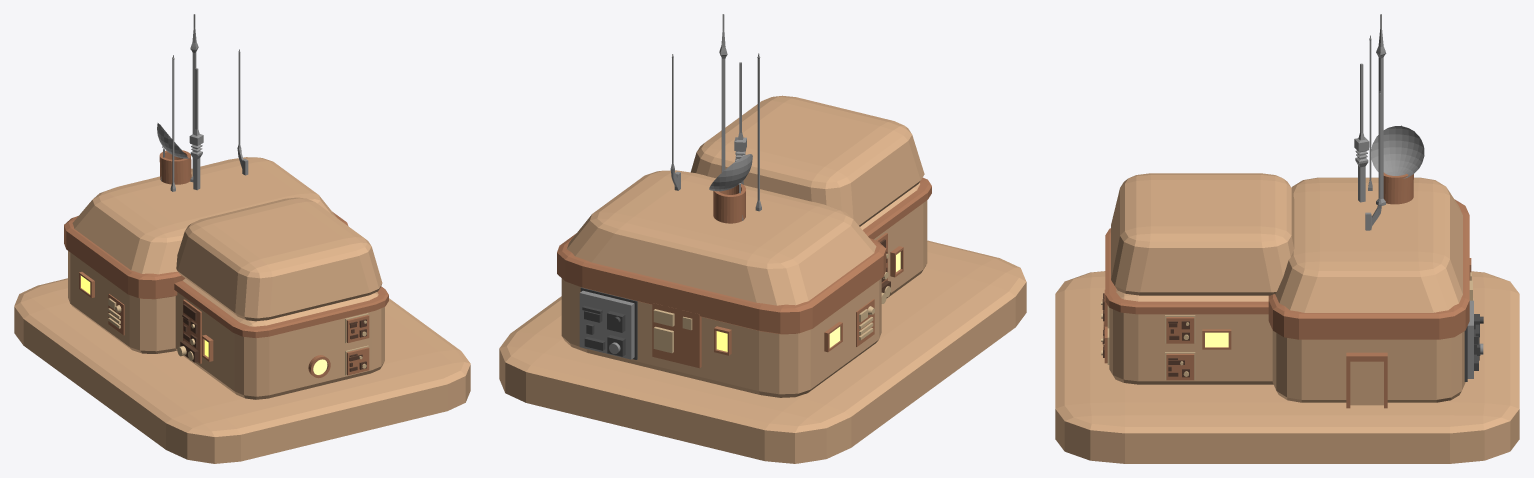
Rendered from nomad_building_26.fbx.
3 renders of one model, left to right at view 1: azimuth 30°, elevation 25°; view 2: azimuth 150°, elevation 25°; view 3: azimuth 270°, elevation 25°, orthographic. The views are drawn at different scales.
Visible parts, largest first — view 1: B26_M_Foundation_square, B26_M_R01_square_roof_defualt, B26_M_R00_rect_base_roof_default, B26_M_Blk01_base, B26_M_Blk00_rect_base, B26_M_B00_Band_square_diameter_thich, B26_M_B01_Band_square_diameter_default, B26_M_Stack0_TowerBody_StackWide, B26_M_Mast3_AntennaMast_Bulky, B26_M_Panel4_MeterBox_Face002, B26_M_Mast2_AntennaMast_Tall, B26_M_Mast0_AntennaMast_Offset; view 2: B26_M_Foundation_square, B26_M_R00_rect_base_roof_default, B26_M_R01_square_roof_defualt, B26_M_Blk00_rect_base, B26_M_B00_Band_square_diameter_thich, B26_M_Blk01_base, B26_M_Panel1_MeterBox_Face001, B26_M_Panel5_PanelBox_Body, B26_M_B01_Band_square_diameter_default, B26_M_Stack0_TowerBody_StackWide, B26_M_Dish0_AntennaDish_Reflector, B26_M_Mast2_AntennaMast_Tall; view 3: B26_M_Foundation_square, B26_M_R00_rect_base_roof_default, B26_M_R01_square_roof_defualt, B26_M_Blk01_base, B26_M_Blk00_rect_base, B26_M_B00_Band_square_diameter_thich, B26_M_B01_Band_square_diameter_default, B26_M_Dish0_AntennaDish_Reflector, B26_M_Door_Door_Leaf, B26_M_Mast2_AntennaMast_Tall, B26_M_Mast3_AntennaMast_Bulky, B26_M_Stack0_TowerBody_StackWide (+5 smaller).
Boxes of the visible parts, x1,y1,x2,y2 form: B26_M_Foundation_square: (14,278,470,463); B26_M_R01_square_roof_defualt: (176,197,382,321); B26_M_R00_rect_base_roof_default: (72,157,336,274); B26_M_Blk01_base: (175,278,384,399); B26_M_Blk00_rect_base: (68,251,176,353); B26_M_B00_Band_square_diameter_thich: (64,211,348,299); B26_M_B01_Band_square_diameter_default: (174,281,388,338); B26_M_Stack0_TowerBody_StackWide: (159,150,191,184); B26_M_Mast3_AntennaMast_Bulky: (189,68,203,190); B26_M_Panel4_MeterBox_Face002: (183,299,201,363); B26_M_Mast2_AntennaMast_Tall: (190,14,198,182); B26_M_Mast0_AntennaMast_Offset: (237,49,248,175); B26_M_Foundation_square: (499,240,1026,463); B26_M_R00_rect_base_roof_default: (567,170,876,305); B26_M_R01_square_roof_defualt: (691,95,924,226); B26_M_Blk00_rect_base: (561,278,881,397); B26_M_B00_Band_square_diameter_thich: (557,233,886,334); B26_M_Blk01_base: (860,183,927,298); B26_M_Panel1_MeterBox_Face001: (579,290,634,359); B26_M_Panel5_PanelBox_Body: (652,303,701,368); B26_M_B01_Band_square_diameter_default: (863,177,931,239); B26_M_Stack0_TowerBody_StackWide: (713,183,745,223); B26_M_Dish0_AntennaDish_Reflector: (709,154,752,191); B26_M_Mast2_AntennaMast_Tall: (719,14,727,172); B26_M_Foundation_square: (1055,271,1519,463); B26_M_R00_rect_base_roof_default: (1275,177,1462,312); B26_M_R01_square_roof_defualt: (1111,173,1294,295); B26_M_Blk01_base: (1109,289,1273,384); B26_M_Blk00_rect_base: (1272,331,1465,402); B26_M_B00_Band_square_diameter_thich: (1268,199,1469,339); B26_M_B01_Band_square_diameter_default: (1105,228,1268,314); B26_M_Dish0_AntennaDish_Reflector: (1371,125,1424,178); B26_M_Door_Door_Leaf: (1350,361,1383,405); B26_M_Mast2_AntennaMast_Tall: (1376,14,1386,205); B26_M_Mast3_AntennaMast_Bulky: (1354,63,1369,202); B26_M_Stack0_TowerBody_StackWide: (1383,172,1413,204).
Bounding box in the file's own units: 343 × 361 × 410.
